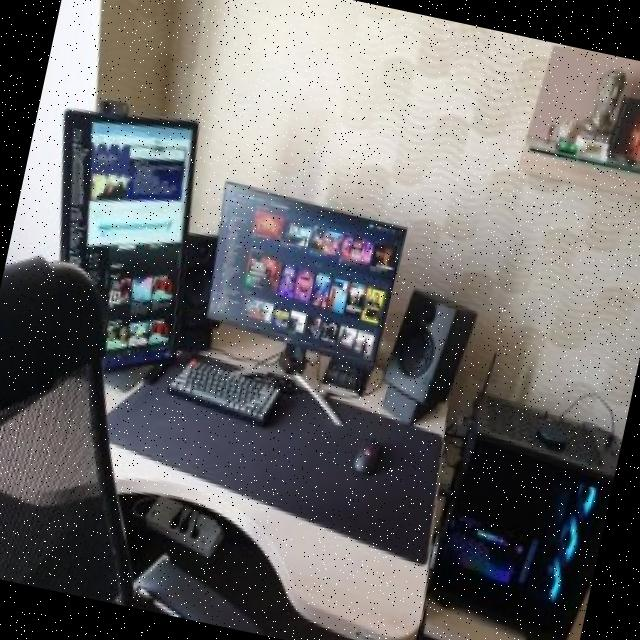Computer: (415, 363, 631, 640)
Monitor: (7, 93, 225, 390), (189, 172, 416, 370)
